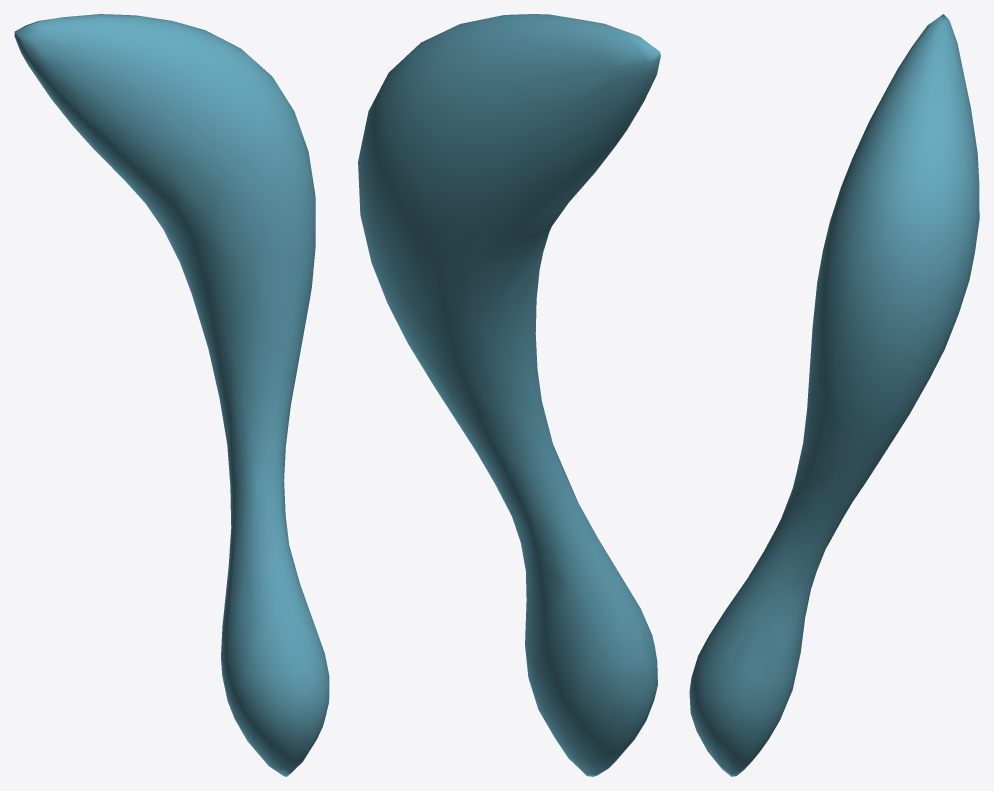
Rendered from Sap_4_0b3da9b0.fbx.
3 views of the same model, side by side, from view 1: azimuth 30°, elevation 25°; view 2: azimuth 150°, elevation 25°; view 3: azimuth 270°, elevation 25° (orthographic). The views are drawn at different scales.
Parts seen in each view (by area): view 1: BlueSap_D_SingleDrop; view 2: BlueSap_D_SingleDrop; view 3: BlueSap_D_SingleDrop.
Part boxes in pixels (<box>): BlueSap_D_SingleDrop: <box>14,14,329,776</box>; BlueSap_D_SingleDrop: <box>358,14,660,776</box>; BlueSap_D_SingleDrop: <box>689,14,979,776</box>.
Bounding box in the file's own units: 30.72 × 79.73 × 30.32.
